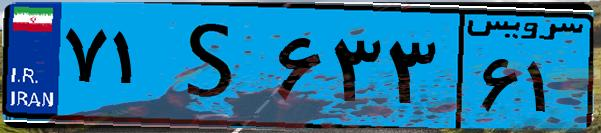1: (525, 38, 570, 115), (110, 28, 158, 98)
3: (385, 28, 445, 110), (330, 28, 385, 110)
6: (270, 28, 330, 110), (475, 38, 525, 113)
7: (57, 26, 110, 100)
S: (158, 12, 270, 120)
